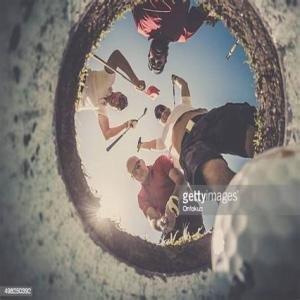Golf: (209, 143, 299, 300)
